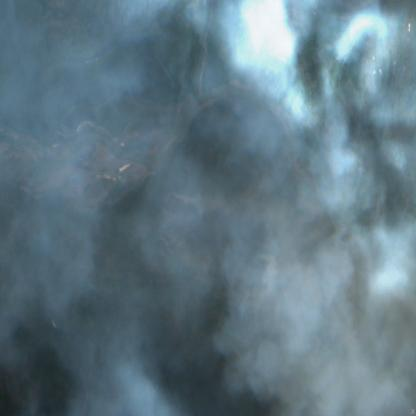fire: (156, 189, 273, 320)
